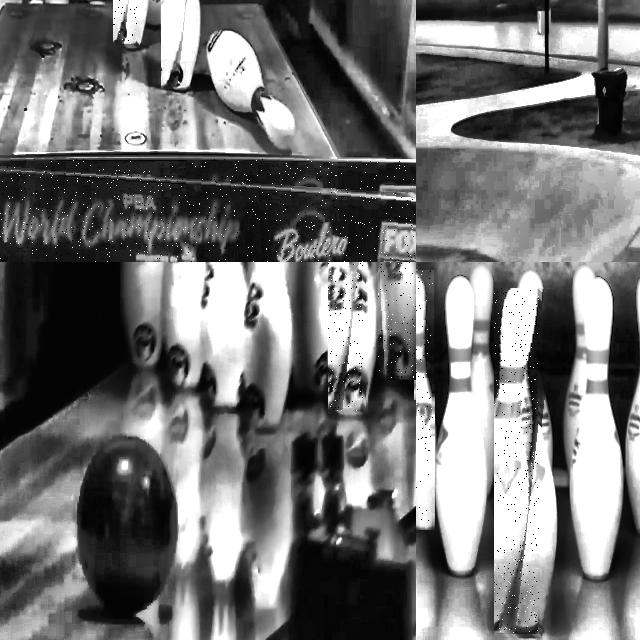bowling-ball: (78, 436, 177, 615)
bowling-pins: (570, 277, 625, 580), (435, 275, 487, 576), (494, 289, 539, 635), (244, 262, 294, 428), (470, 264, 501, 494), (202, 262, 248, 408), (564, 265, 595, 473), (293, 262, 334, 394), (164, 262, 207, 387), (329, 262, 362, 411), (121, 262, 165, 368), (416, 271, 433, 530), (379, 262, 416, 378), (161, 0, 189, 89), (114, 0, 136, 45)
sweep board: (0, 169, 416, 262)
